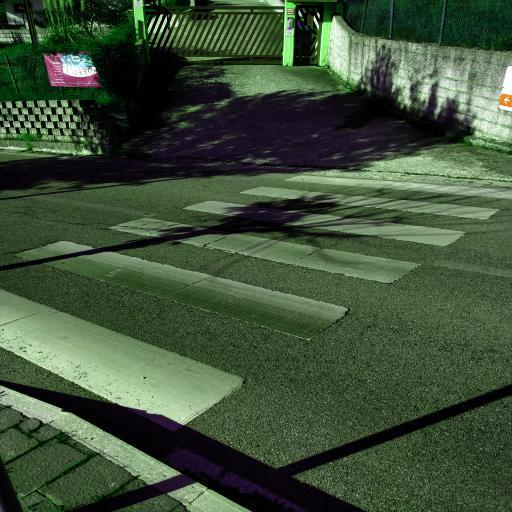crosswalk: (8, 212, 422, 344)
